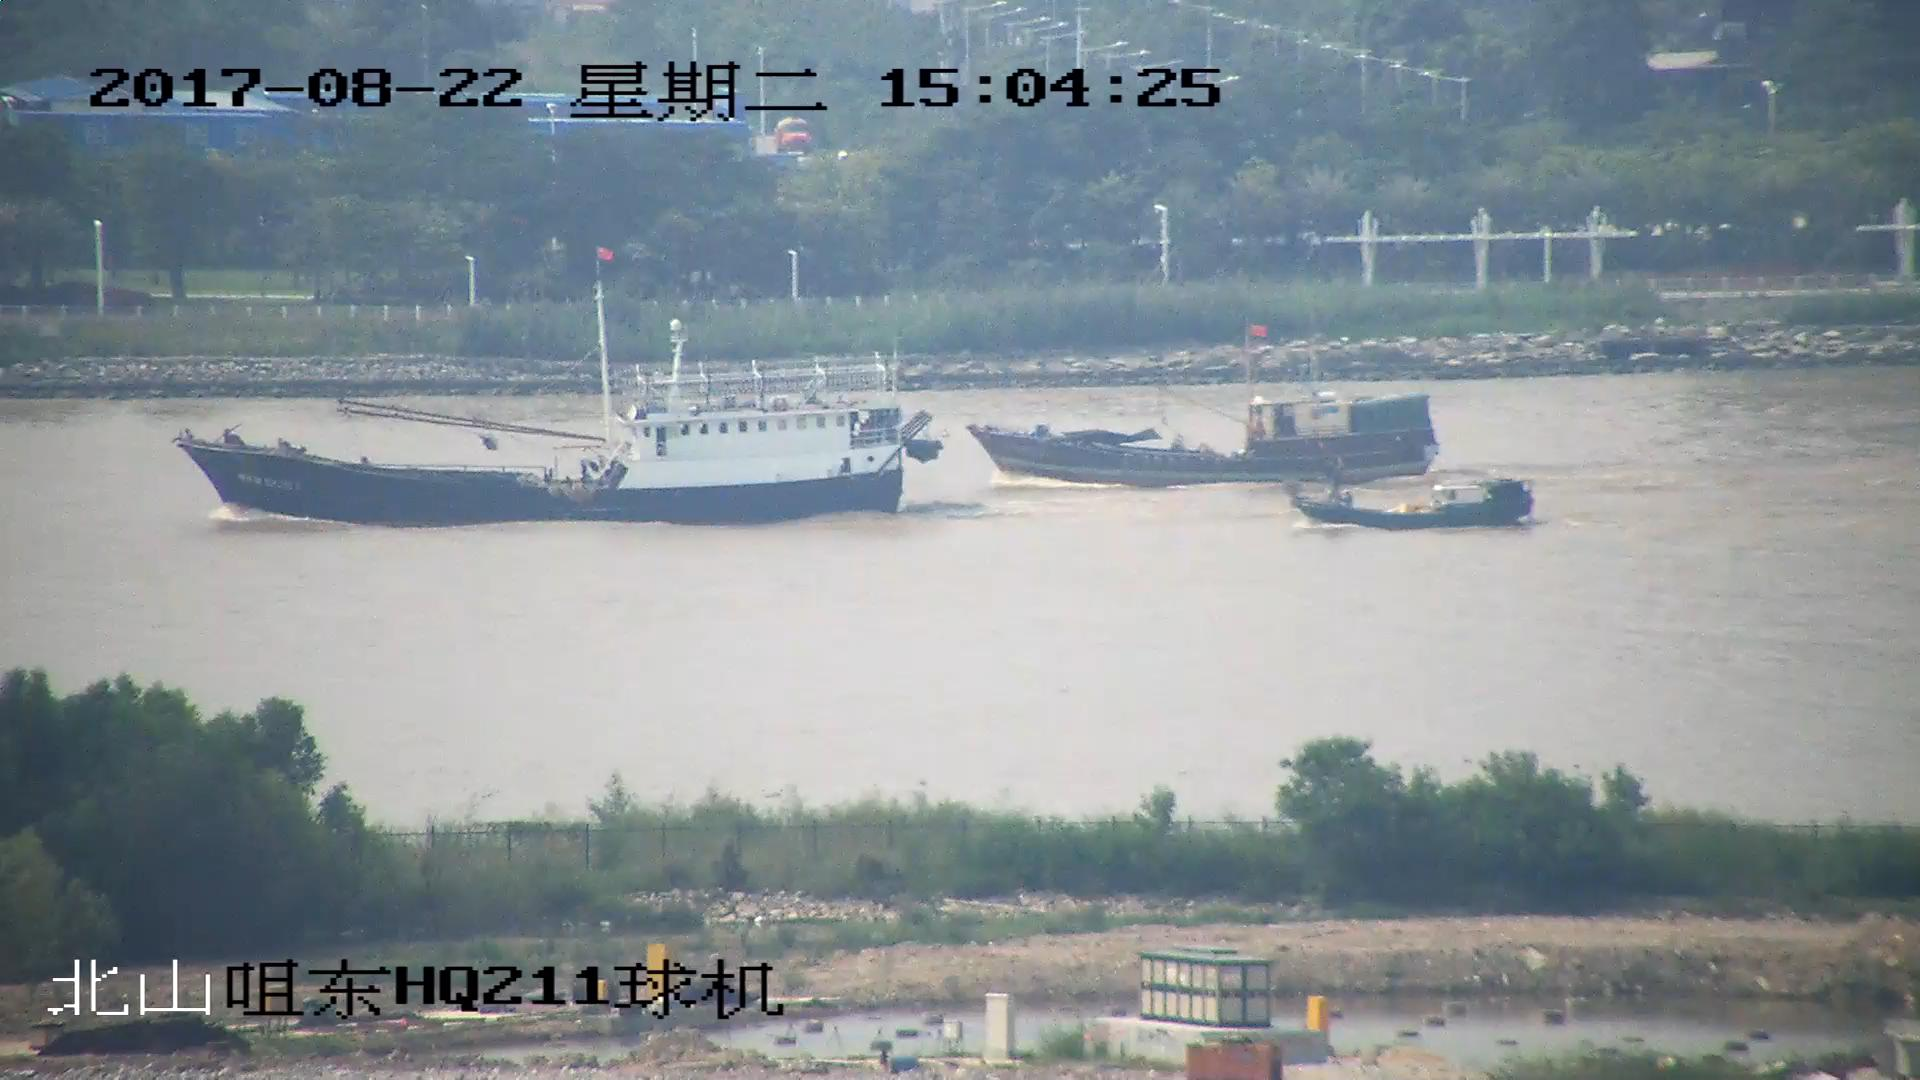fishing boat: (170, 256, 942, 531), (967, 325, 1440, 488), (1291, 461, 1536, 533)
